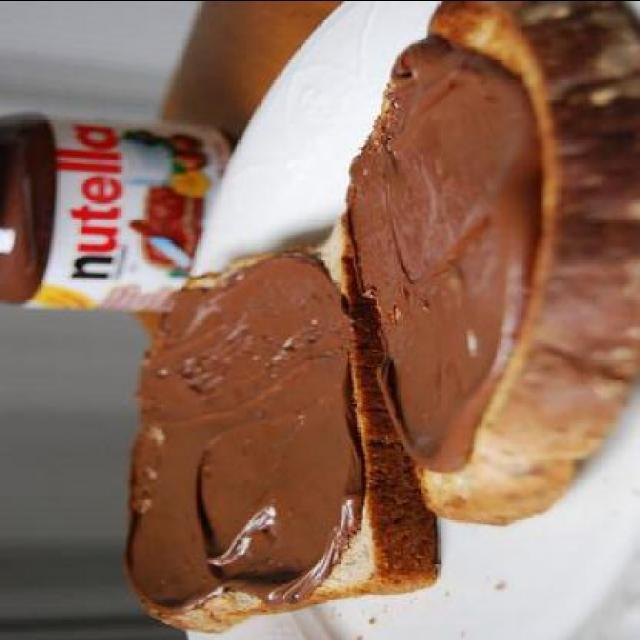Spread: (348, 29, 537, 476), (124, 253, 353, 615)
